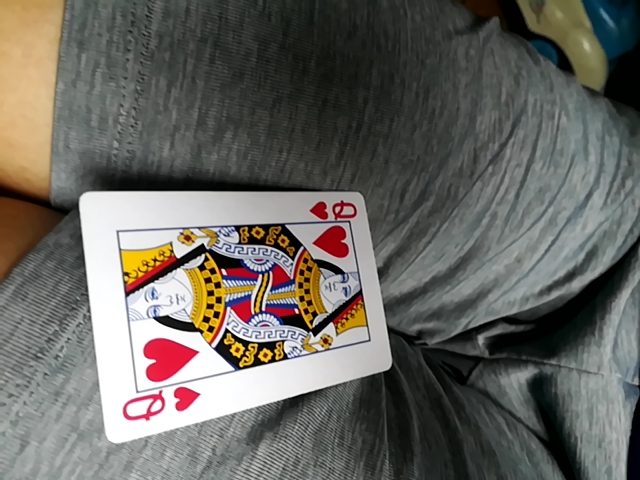hx q: (82, 185, 391, 442)
